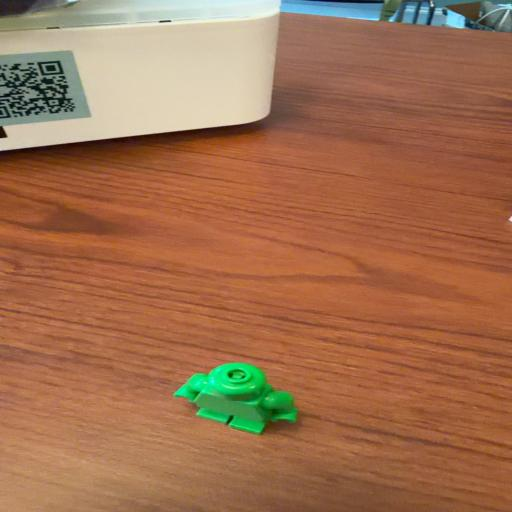UnoQ-minifig-detector: (174, 361, 298, 435)
